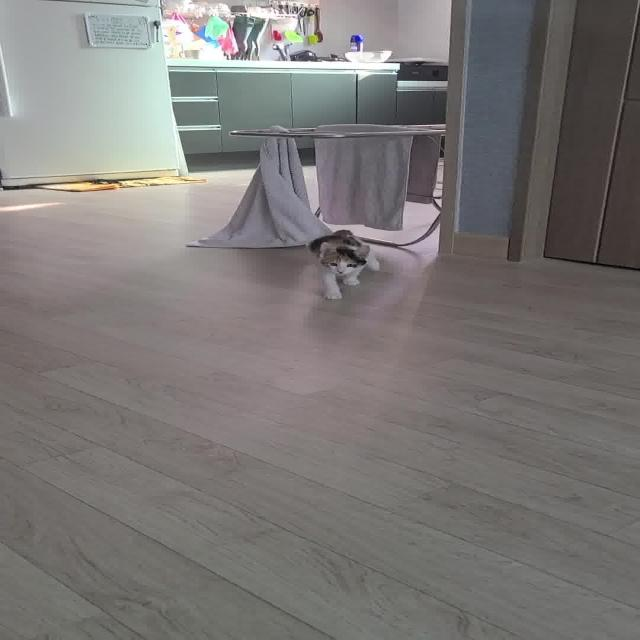cat: (295, 225, 394, 304)
